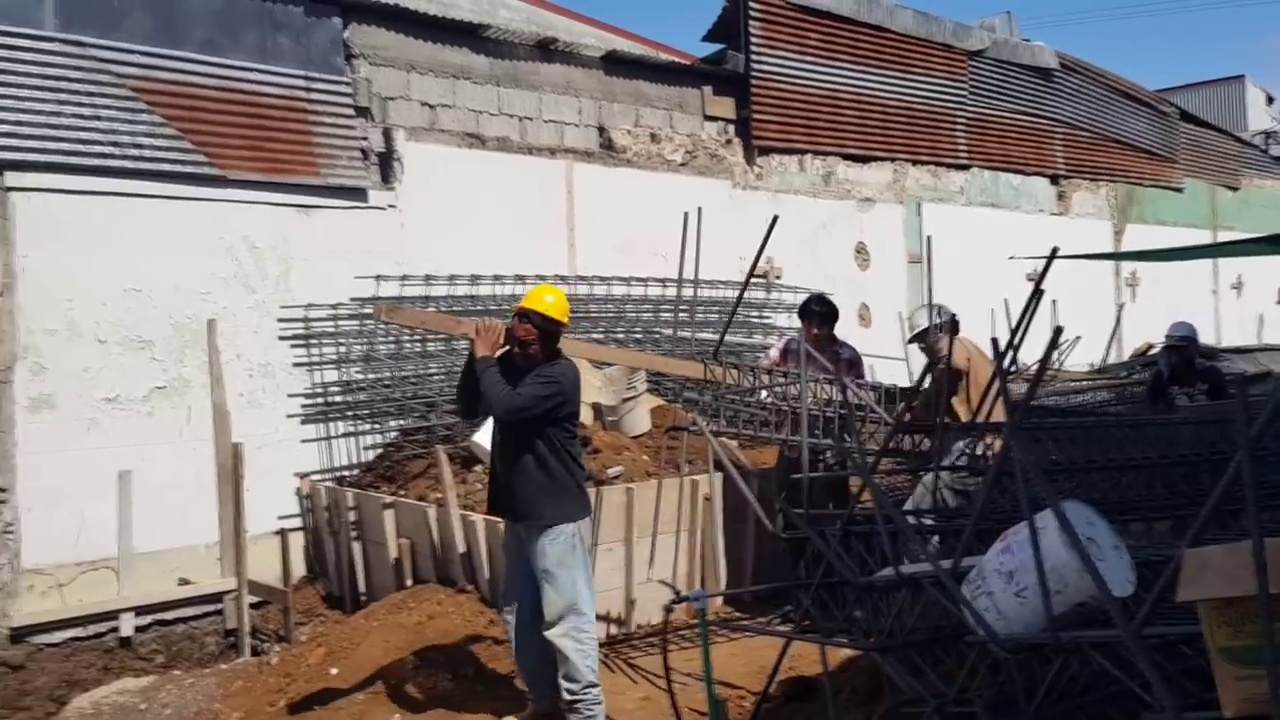helmet: (505, 285, 573, 328), (901, 303, 958, 346), (1164, 322, 1202, 348)
helmet-off: (797, 293, 842, 356)
helmet-on: (501, 284, 574, 376), (900, 303, 960, 365), (1163, 324, 1201, 371)
person: (459, 280, 604, 719), (767, 298, 879, 537), (898, 310, 1006, 440), (1149, 322, 1219, 407)
